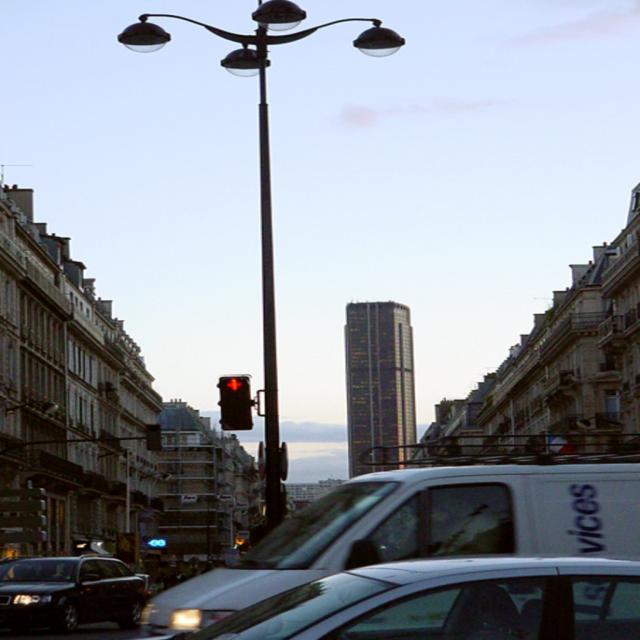traffic light: (214, 373, 255, 431)
